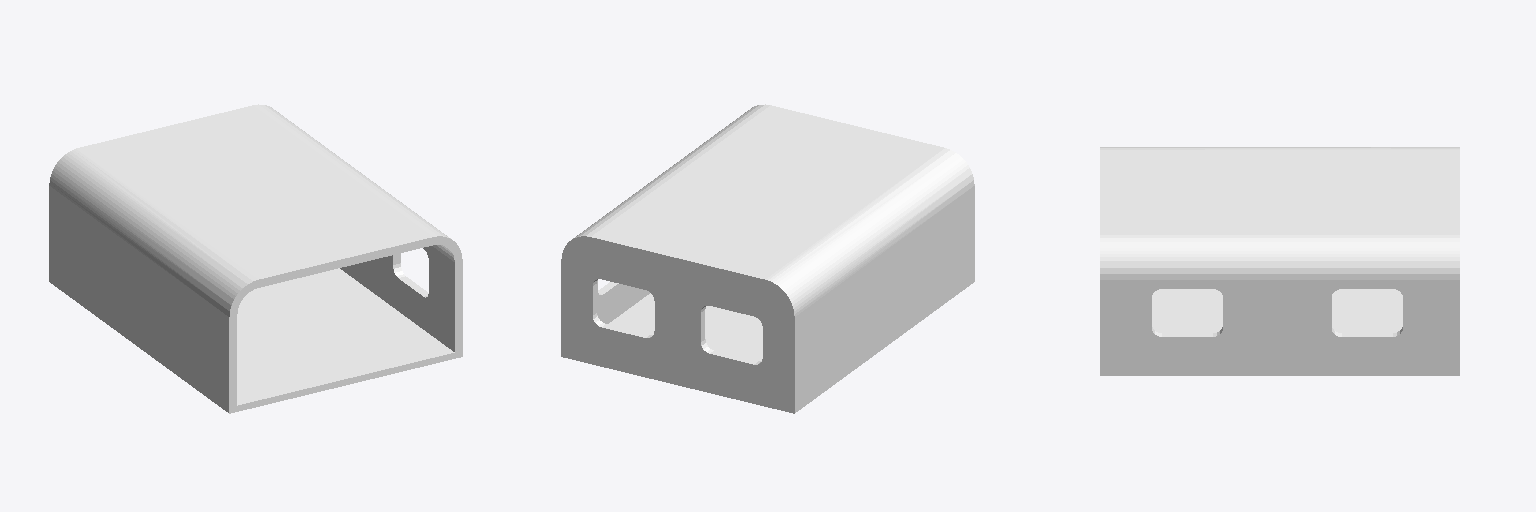
3 views of the same model, side by side, from view 1: azimuth 30°, elevation 25°; view 2: azimuth 150°, elevation 25°; view 3: azimuth 270°, elevation 25° (orthographic).
Visible parts, largest first — view 1: object_1, object_3, object_5, object_2; view 2: object_1, object_3, object_4, object_5, object_2; view 3: object_2, object_1, object_5, object_3.
Boxes of the visible parts, box(x1,y1,x2,y2) form: object_1: box(79, 105, 432, 287); object_3: box(49, 148, 258, 407); object_5: box(49, 268, 462, 413); object_2: box(254, 104, 462, 351); object_1: box(591, 105, 944, 287); object_3: box(765, 148, 974, 407); object_4: box(569, 245, 786, 405); object_5: box(561, 276, 974, 413); object_2: box(561, 104, 769, 351); object_2: box(1100, 235, 1459, 369); object_1: box(1100, 150, 1459, 234); object_5: box(1100, 289, 1459, 375); object_3: box(1100, 147, 1459, 149).
Bounding box in the file's own units: 7.97 × 4.15 × 10.66.